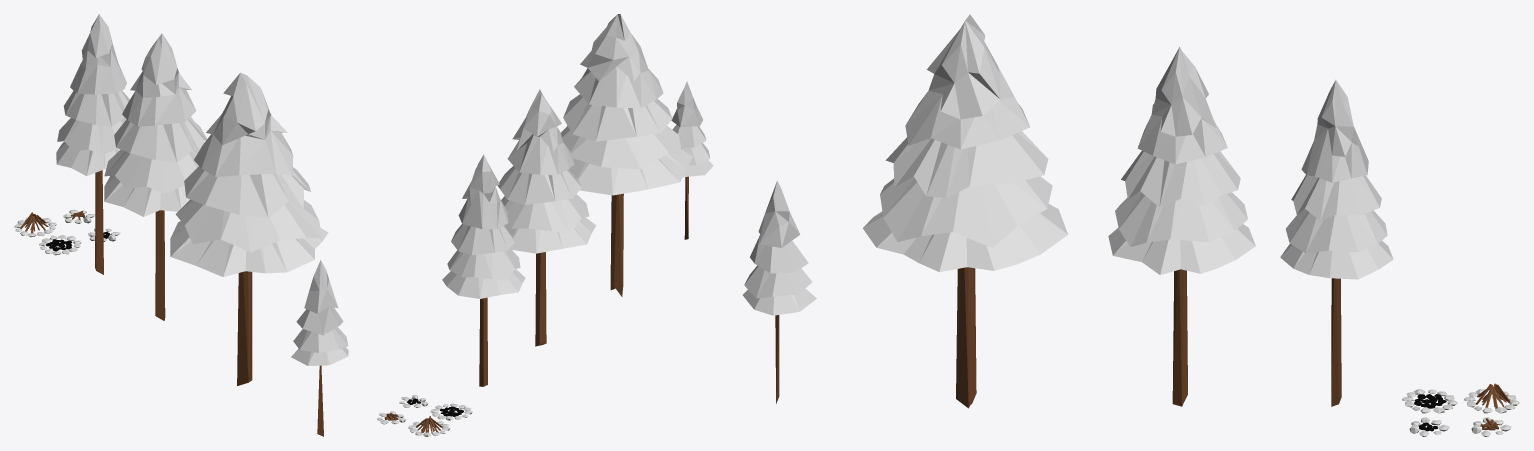
Rendered from Low-Poly Ice World 1.fbx.
The picture shows the model from 3 angles, left to right: view 1: azimuth 30°, elevation 25°; view 2: azimuth 150°, elevation 25°; view 3: azimuth 270°, elevation 25°; orthographic projection. The views are drawn at different scales.
Visible parts, largest first — view 1: Pine_3, Pine_2, Pine_1, Pine_4, Campfire_Big_Burnt, Campfire_Big; view 2: Pine_3, Pine_2, Pine_1, Pine_4, Campfire_Big, Campfire_Big_Burnt; view 3: Pine_3, Pine_2, Pine_1, Pine_4, Campfire_Big, Campfire_Big_Burnt.
Boxes of the visible parts, bbox=[...] form: Pine_3: bbox=[170, 72, 328, 385]; Pine_2: bbox=[104, 33, 206, 320]; Pine_1: bbox=[56, 14, 129, 274]; Pine_4: bbox=[291, 260, 348, 436]; Campfire_Big_Burnt: bbox=[39, 235, 81, 255]; Campfire_Big: bbox=[14, 212, 56, 237]; Pine_3: bbox=[561, 14, 692, 296]; Pine_2: bbox=[497, 89, 596, 346]; Pine_1: bbox=[442, 154, 525, 386]; Pine_4: bbox=[671, 81, 713, 239]; Campfire_Big: bbox=[408, 416, 450, 436]; Campfire_Big_Burnt: bbox=[430, 403, 472, 420]; Pine_3: bbox=[863, 14, 1068, 408]; Pine_2: bbox=[1108, 46, 1255, 406]; Pine_1: bbox=[1280, 80, 1393, 406]; Pine_4: bbox=[742, 180, 816, 403]; Campfire_Big: bbox=[1464, 383, 1519, 413]; Campfire_Big_Burnt: bbox=[1402, 389, 1457, 413].
Bounding box in the file's own units: 673 × 1398 × 2511.
